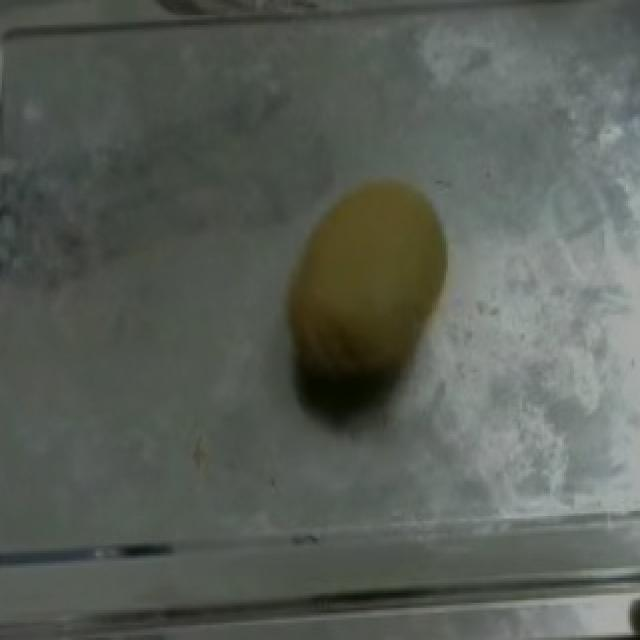Fruit: (264, 171, 460, 414)
